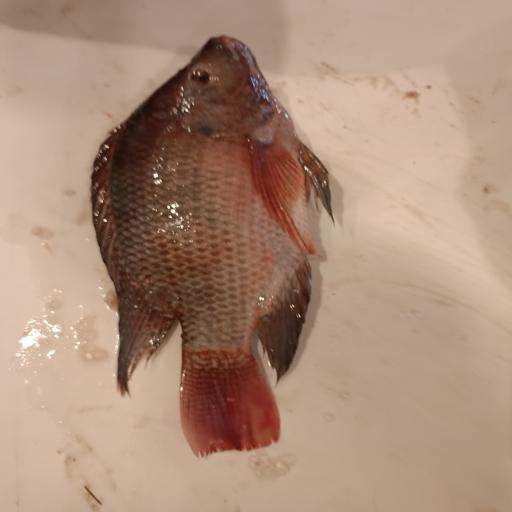Tilapia: (90, 35, 337, 460)
